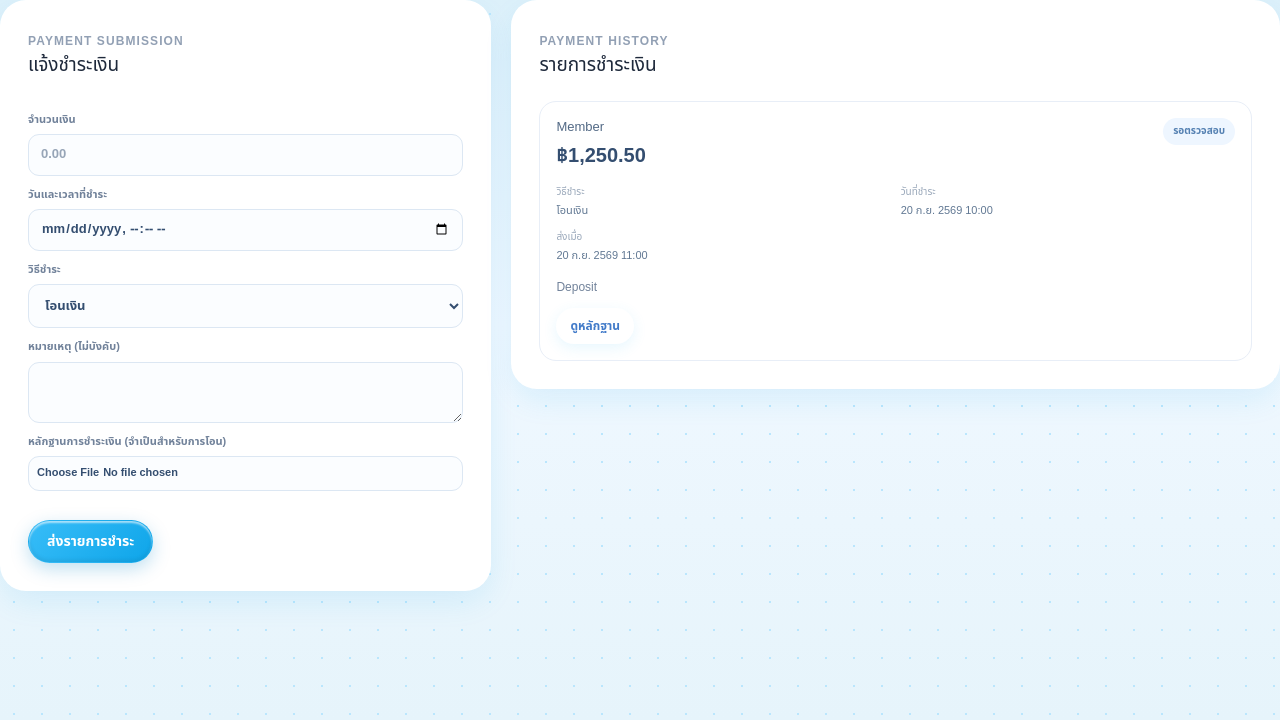
M2.8 payment submission, history, and review UI › submits cash without a proof and uses the existing multipart route
This screenshot has width=1280, height=720.
In the number field labelled "จำนวนเงิน": (246, 155) [28,134,463,176], type "1250.50"
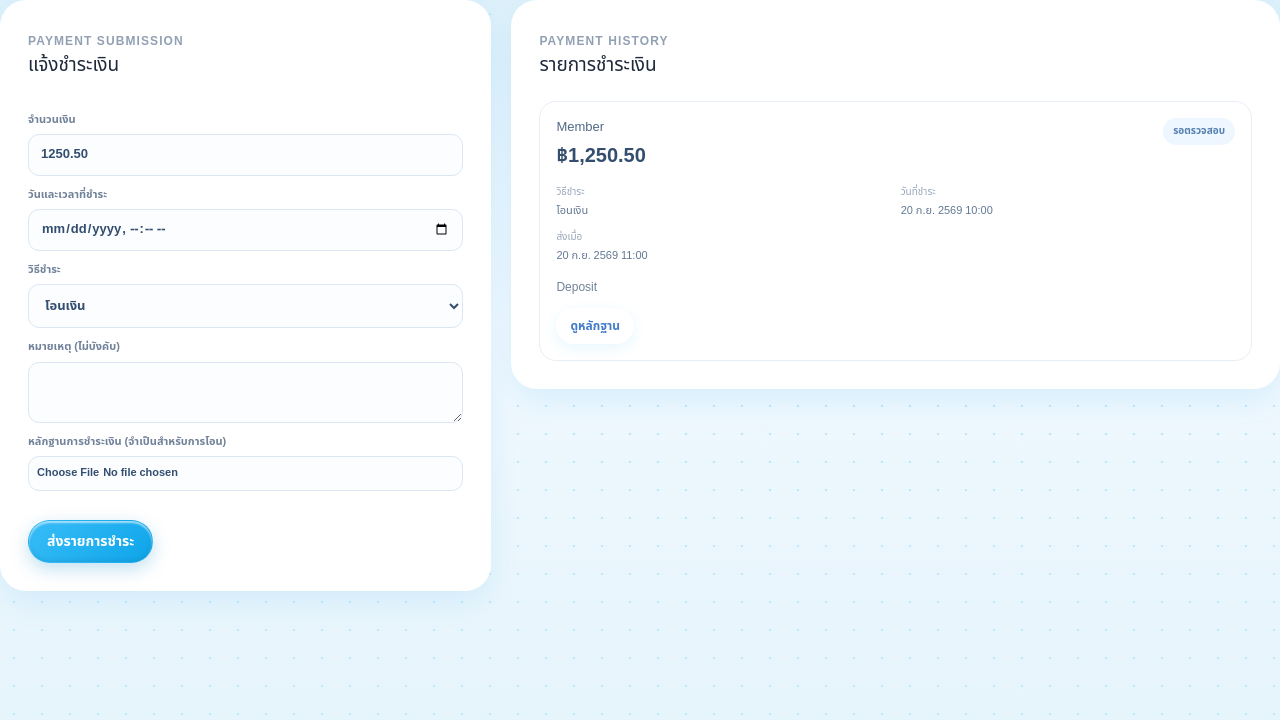
In the field labelled "วันและเวลาที่ชำระ": (246, 230) [28,209,463,250], type "2026-09-20T14:30"
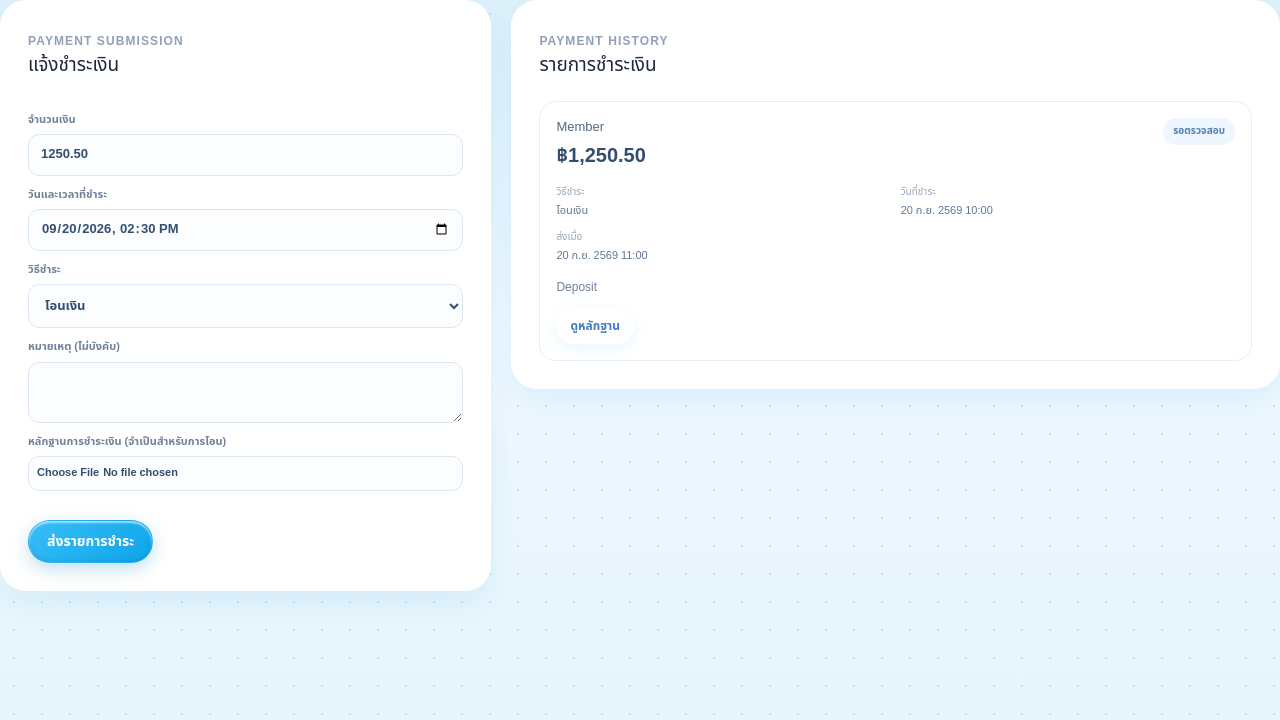
Select "เงินสด" in the dropdown labelled "วิธีชำระ": (246, 306) [28,284,463,328]
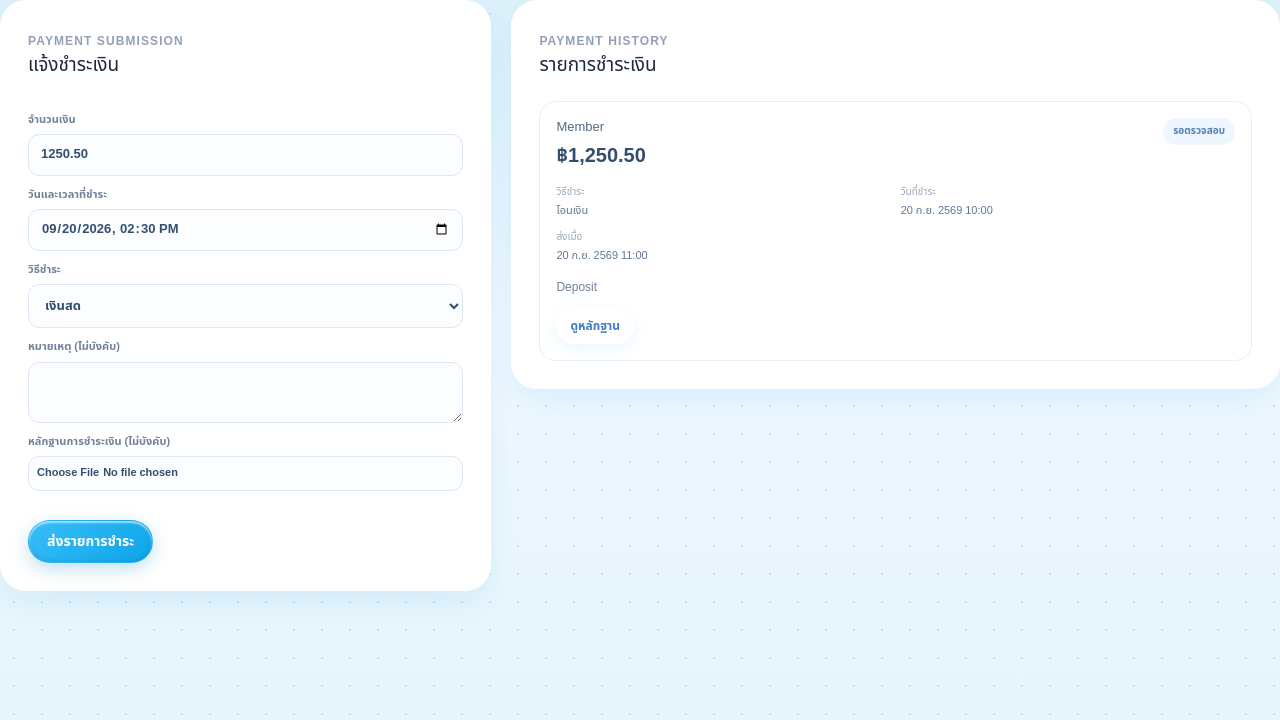
Click the button "ส่งรายการชำระ": (91, 541) [28,520,153,562]
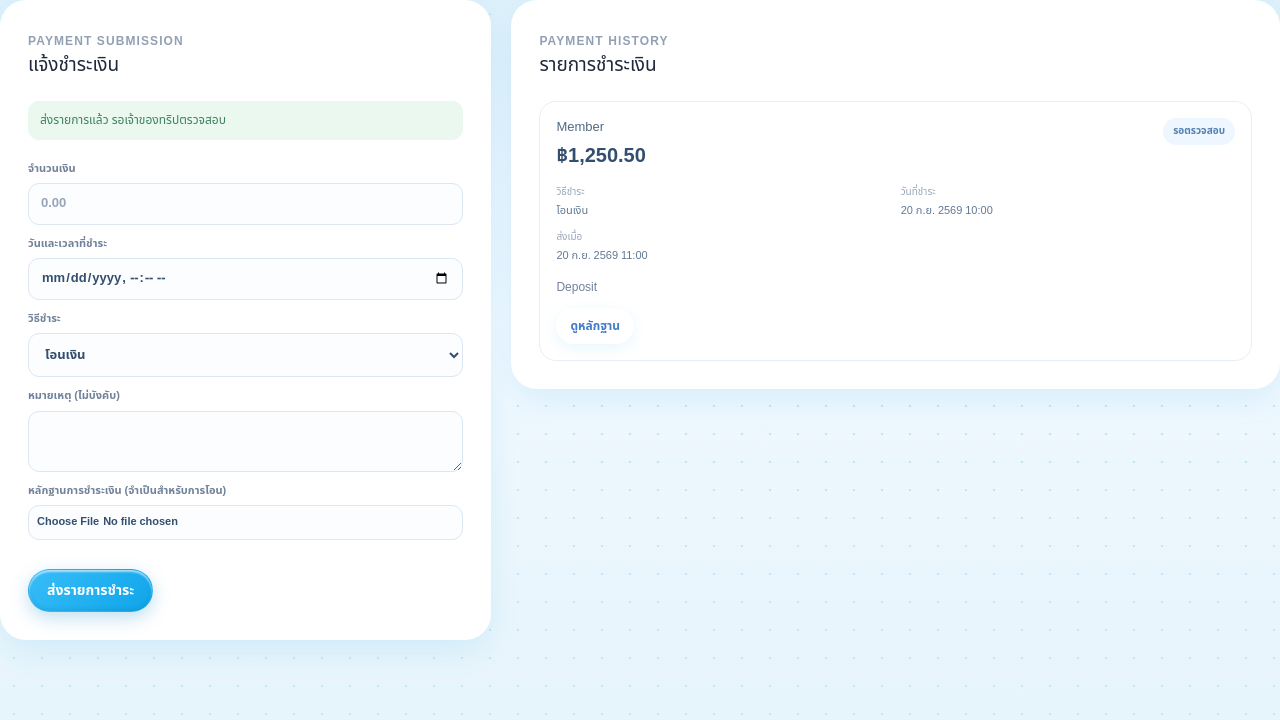
Result: the message shows "ส่งรายการแล้ว" at [40,110,226,128]
